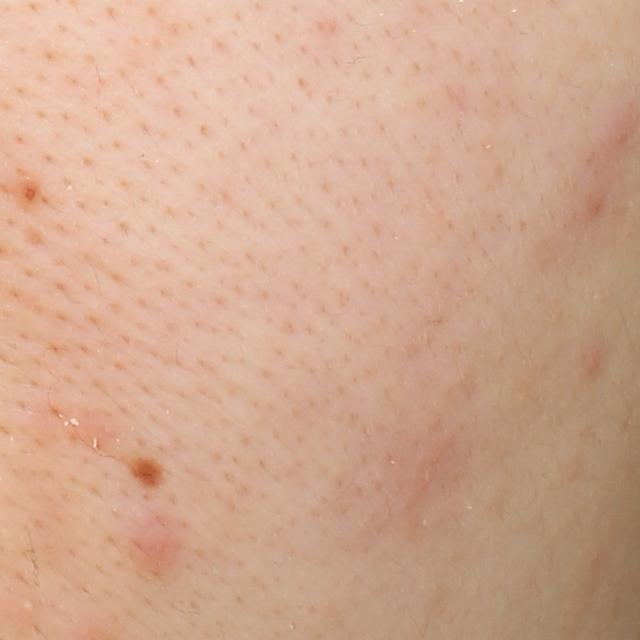melasma: (117, 452, 171, 492)
papule: (579, 346, 607, 379)
